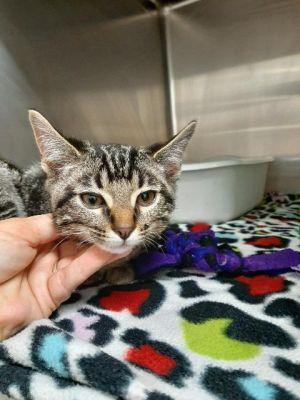bengal: (25, 104, 206, 265)
